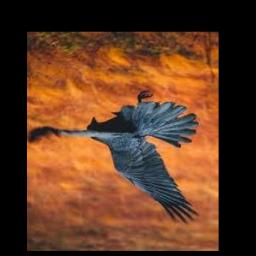Crow: (27, 92, 200, 226)
